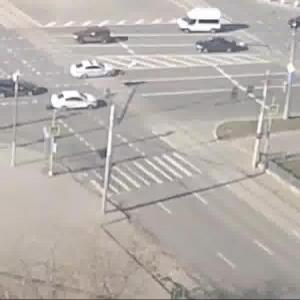car: (179, 10, 222, 37), (69, 60, 123, 81), (49, 94, 104, 111), (198, 37, 240, 57), (72, 28, 114, 47), (1, 79, 29, 98), (291, 16, 300, 28)
